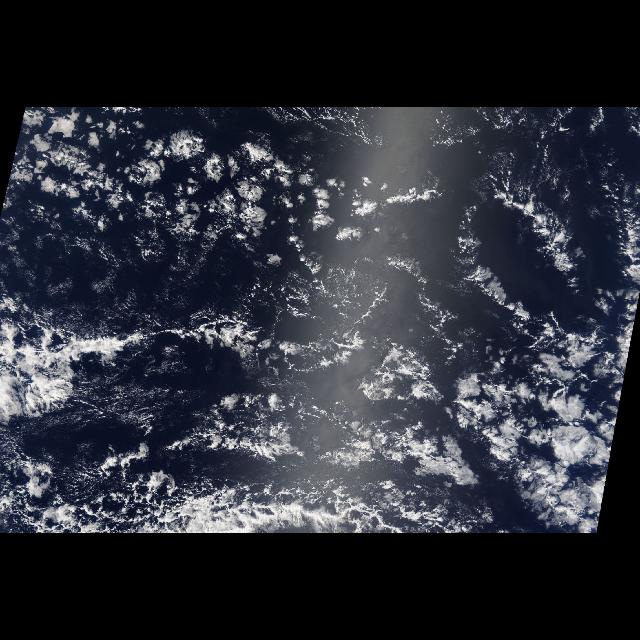Flower: (19, 114, 374, 246)
Sugar: (80, 359, 176, 447)
